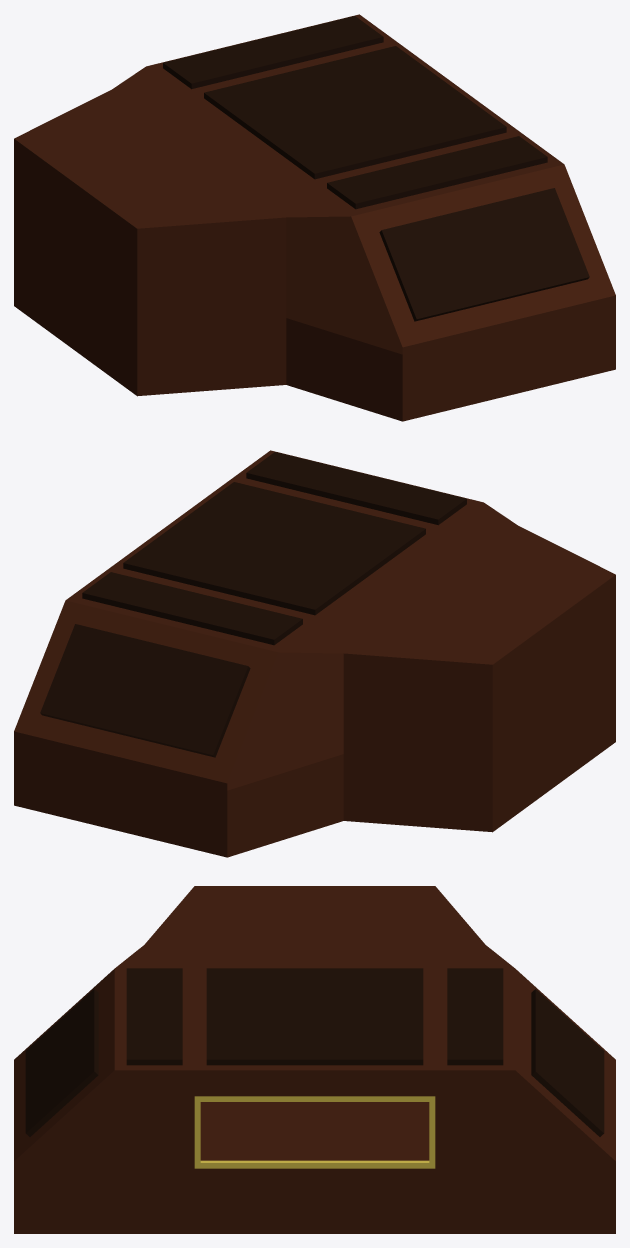
The model's file is Vendeur.fbx.
3 renders of one model, top to bottom at view 1: azimuth 30°, elevation 25°; view 2: azimuth 150°, elevation 25°; view 3: azimuth 270°, elevation 25°, orthographic. The views are drawn at different scales.
Parts seen in each view (by area): view 1: Vendeur; view 2: Vendeur; view 3: Vendeur.
Part boxes in pixels (box(x1,y1,x2,y2)): Vendeur: box(14, 14, 615, 421); Vendeur: box(14, 450, 615, 857); Vendeur: box(14, 886, 615, 1233).
Size of the model in its own units: 362 by 155 by 500.
